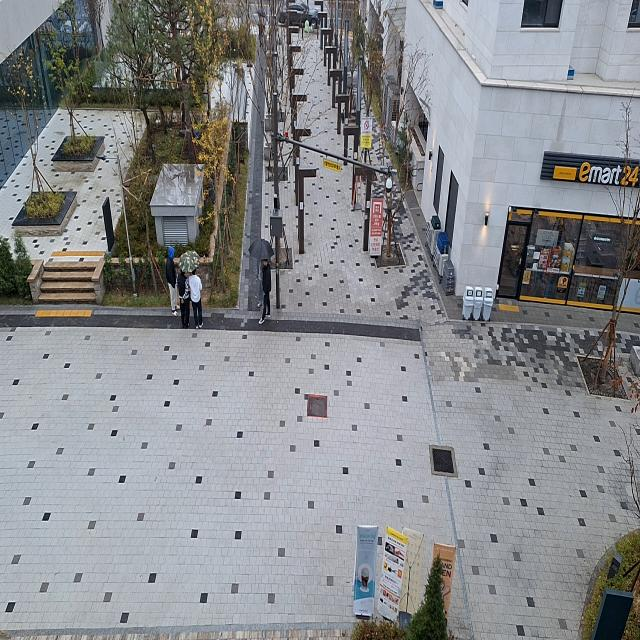Car: (274, 0, 322, 28)
